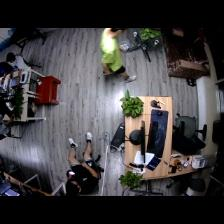normal: (66, 134, 102, 197), (102, 26, 139, 83), (5, 51, 30, 73)
